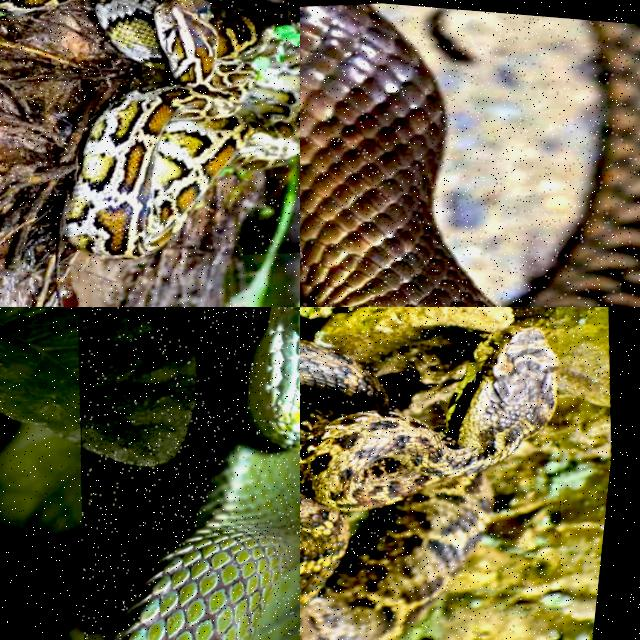Naja kaouthia: (300, 4, 495, 306)
Ovophis monticola: (300, 327, 557, 639)
Python bivittatus: (63, 0, 299, 258)
Trimeresurus macrops: (108, 307, 299, 639)
